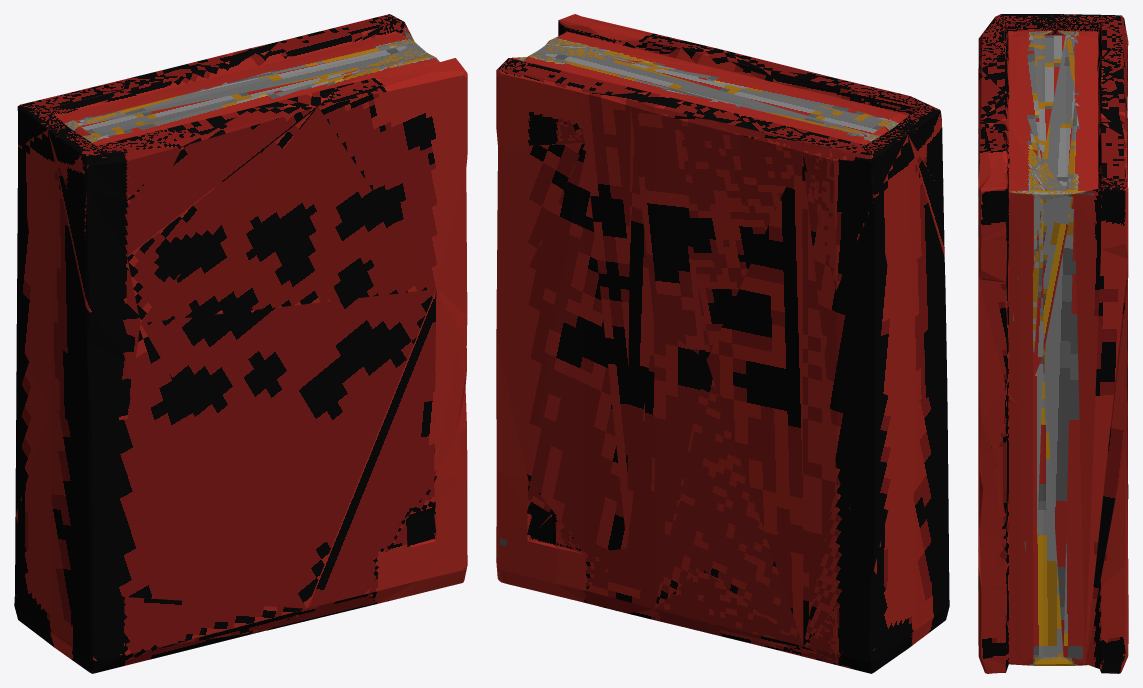
3 renders of one model, left to right at view 1: azimuth 30°, elevation 25°; view 2: azimuth 150°, elevation 25°; view 3: azimuth 270°, elevation 25°, orthographic. The views are drawn at different scales.
Visible parts, largest first — view 1: OBJ131; view 2: OBJ131; view 3: OBJ131.
Boxes of the visible parts, <box> form: OBJ131: <box>14,14,467,673</box>; OBJ131: <box>496,14,949,673</box>; OBJ131: <box>978,14,1128,673</box>.
Bounding box in the file's own units: 0.2807 × 0.3649 × 0.102.
Materials: 1 (1 with a texture image).
